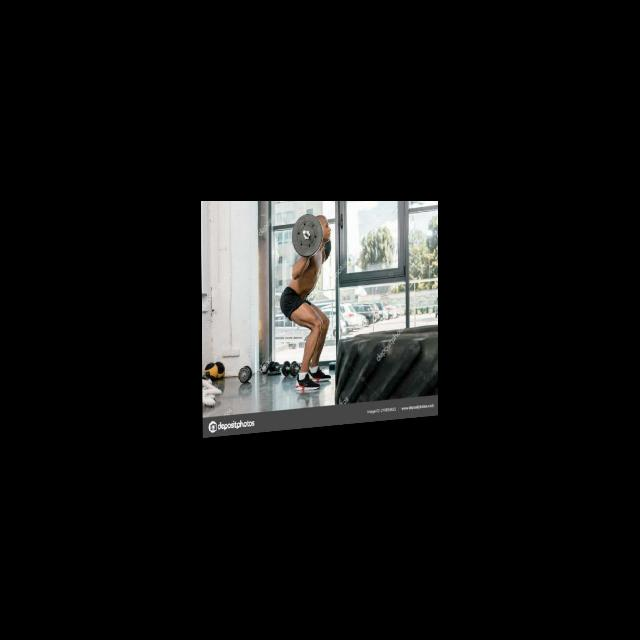barbell: (290, 213, 324, 261)
